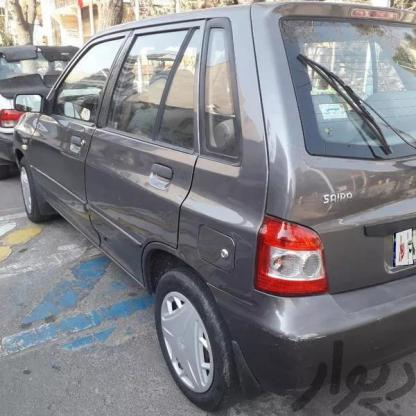Car: (0, 0, 416, 391), (0, 28, 117, 169)
